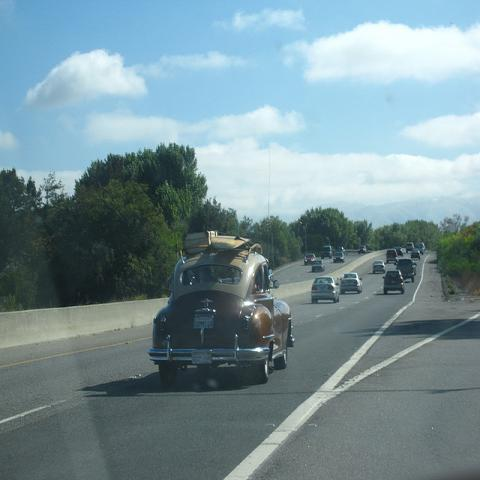car: (146, 242, 294, 390), (311, 276, 340, 304), (382, 268, 405, 294), (397, 257, 417, 283), (340, 272, 362, 294), (372, 260, 386, 273), (312, 259, 325, 273), (386, 250, 398, 264), (333, 251, 345, 263), (321, 246, 332, 259), (304, 253, 316, 264), (411, 249, 421, 260), (396, 248, 404, 257)
